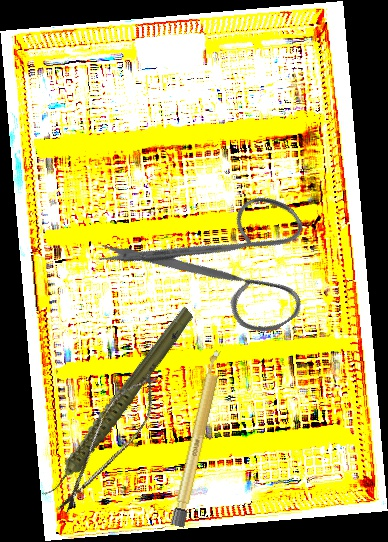Handpiece: (6, 305, 225, 500)
Iris Scissors: (92, 145, 344, 391)
Micro Scissor: (46, 364, 170, 524)
Scalpel Handle: (170, 349, 226, 528)
